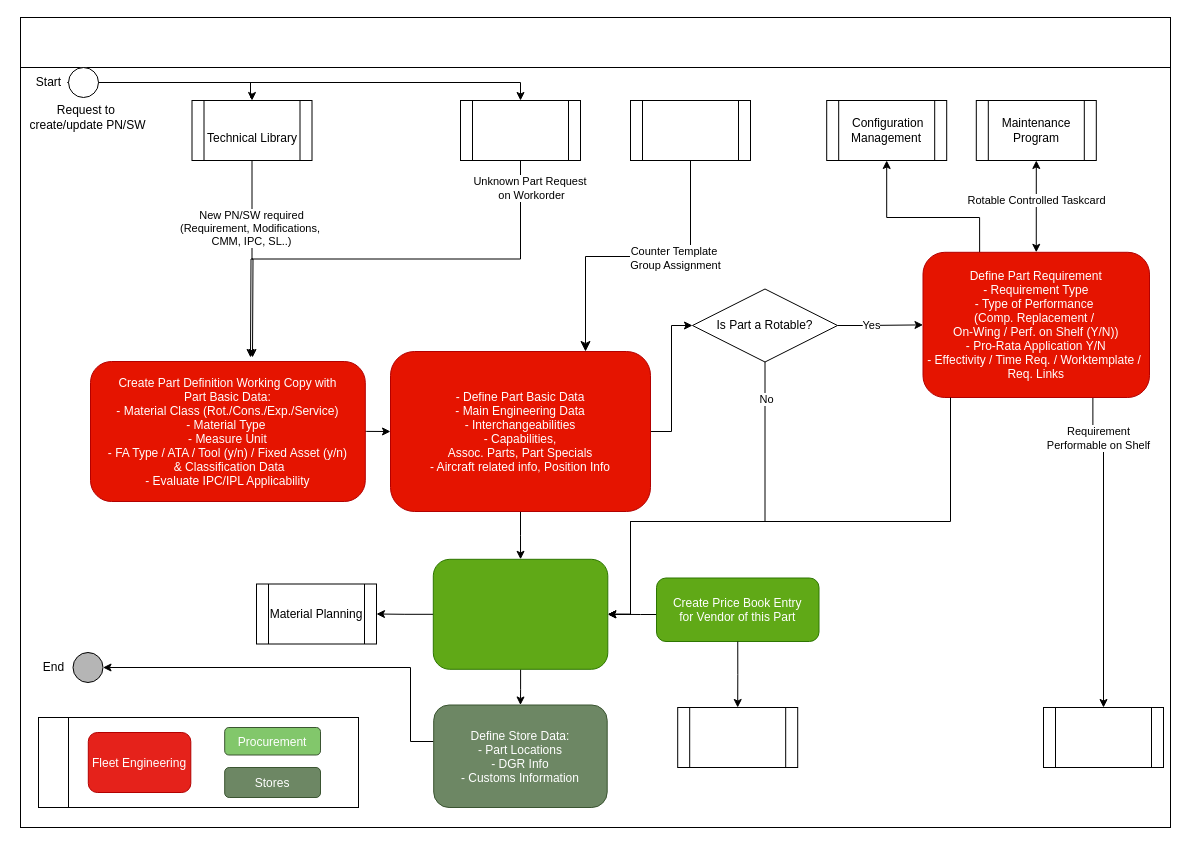
Image size: 1188x845. Some labels were removed from this diagram. Here are the shapes that lost their labels. From the top down, the box of each, then its label:
(20, 16, 1170, 68): 01.02 Parts Definition
(460, 100, 580, 160): Performing Maintenance
(630, 100, 750, 160): Aircraft & Component Counters
(432, 558, 608, 669): Define Supply Chain Data: - Reorder Levels for Consumables - Vendor Data
(677, 706, 798, 768): Ordering
(1042, 706, 1164, 768): Inventory & Shelf Life Control
(38, 716, 68, 808): LEGEND
